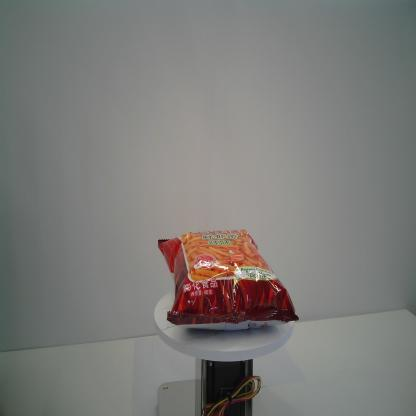Puffed Food: (157, 229, 300, 331)
